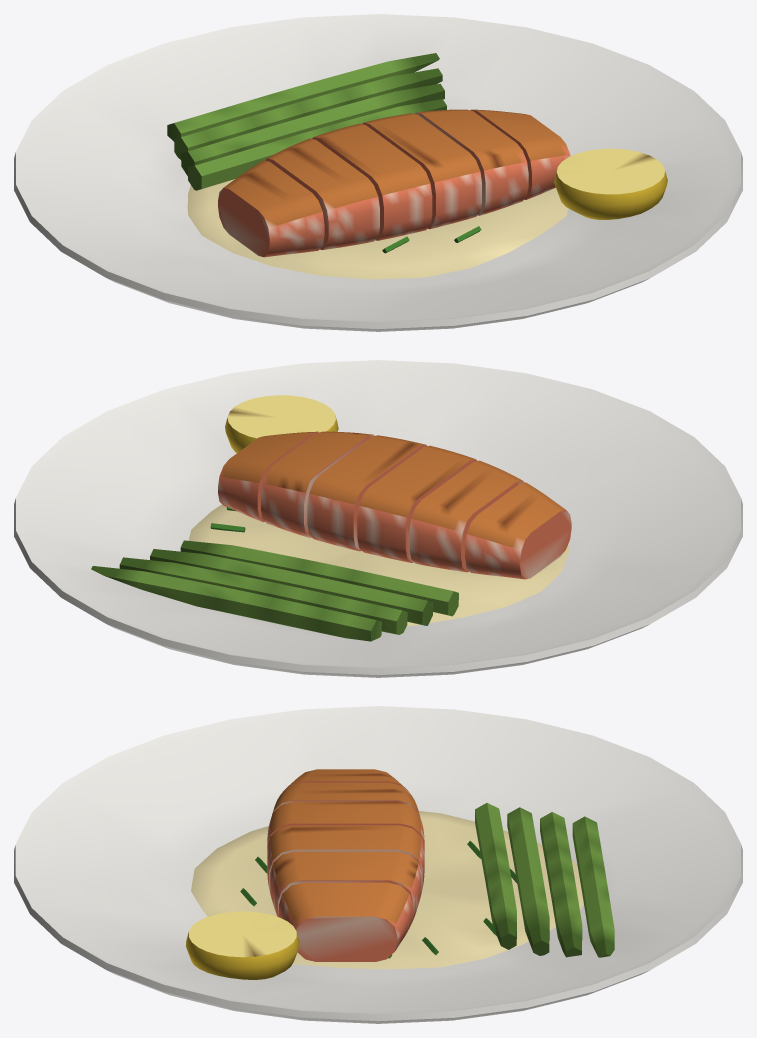
The model's file is dish-salmon-lod1.glb.
The picture shows the model from 3 angles, top to bottom: view 1: azimuth 30°, elevation 25°; view 2: azimuth 150°, elevation 25°; view 3: azimuth 270°, elevation 25°; orthographic projection.
Parts seen in each view (by area): view 1: salmon.lod1__table porcelain, salmon.lod1__food, salmon.lod1__food glaze; view 2: salmon.lod1__table porcelain, salmon.lod1__food, salmon.lod1__food glaze; view 3: salmon.lod1__table porcelain, salmon.lod1__food, salmon.lod1__food glaze.
Boxes of the visible parts, bbox=[...] form: salmon.lod1__table porcelain: bbox=[14, 14, 742, 331]; salmon.lod1__food: bbox=[167, 53, 570, 257]; salmon.lod1__food glaze: bbox=[187, 148, 667, 279]; salmon.lod1__table porcelain: bbox=[14, 360, 742, 677]; salmon.lod1__food: bbox=[91, 431, 571, 641]; salmon.lod1__food glaze: bbox=[188, 395, 569, 626]; salmon.lod1__table porcelain: bbox=[14, 706, 742, 1023]; salmon.lod1__food: bbox=[240, 769, 614, 961]; salmon.lod1__food glaze: bbox=[186, 811, 583, 979].
Bounding box in the file's own units: 0.27 × 0.038 × 0.2685.
